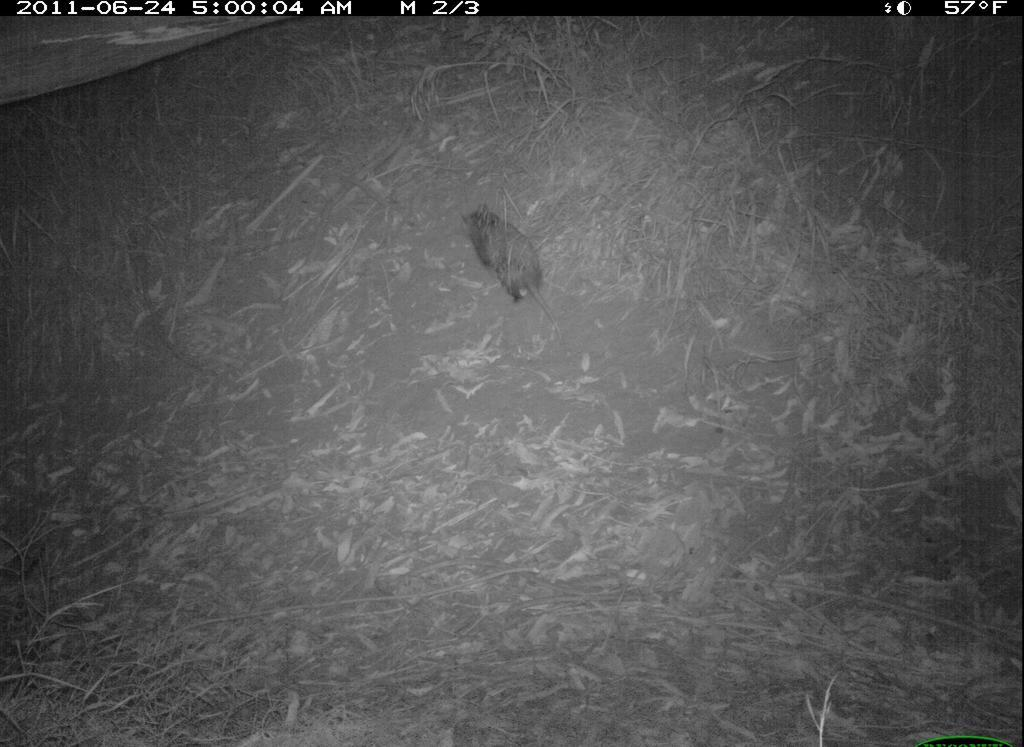opossum: (454, 193, 573, 350)
